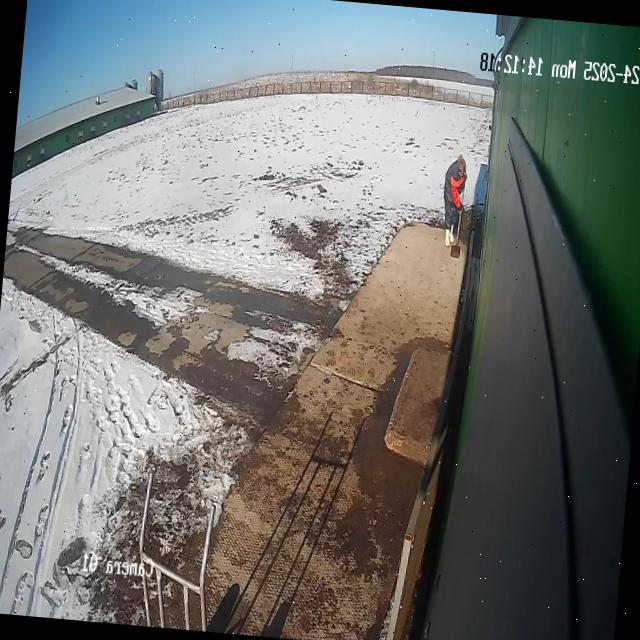Red uniform: (436, 151, 471, 251)
